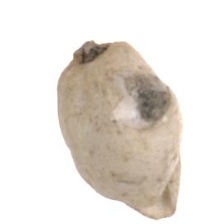L1: (124, 187, 180, 219), (68, 39, 112, 63)
L2: (56, 39, 183, 220)
